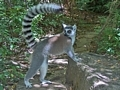cat: (24, 3, 83, 87)
